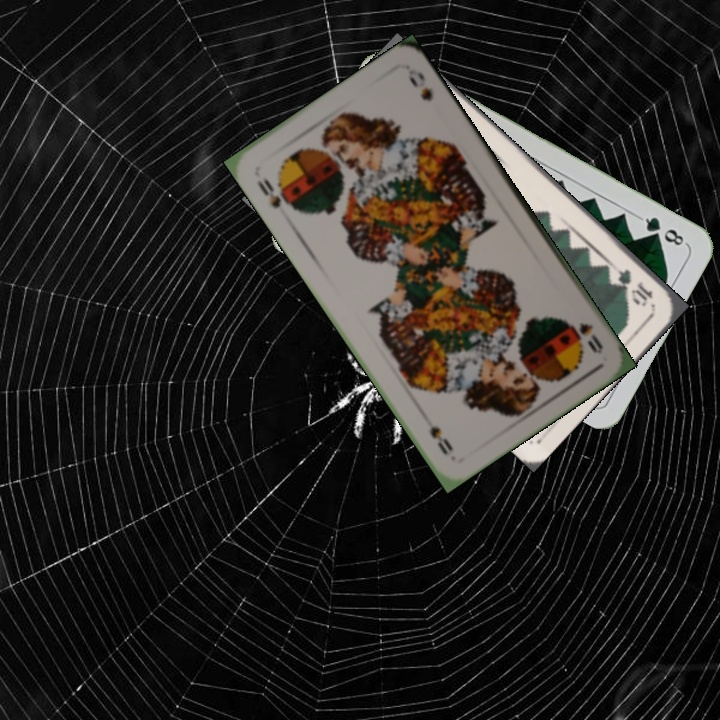G10: (608, 261, 656, 309)
G8: (635, 213, 689, 249)
SO: (575, 318, 606, 357), (253, 173, 284, 212)
